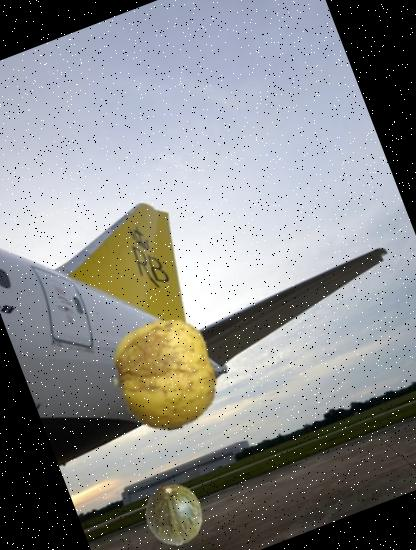Apple: (94, 304, 236, 446)
Melon: (134, 475, 214, 550)
